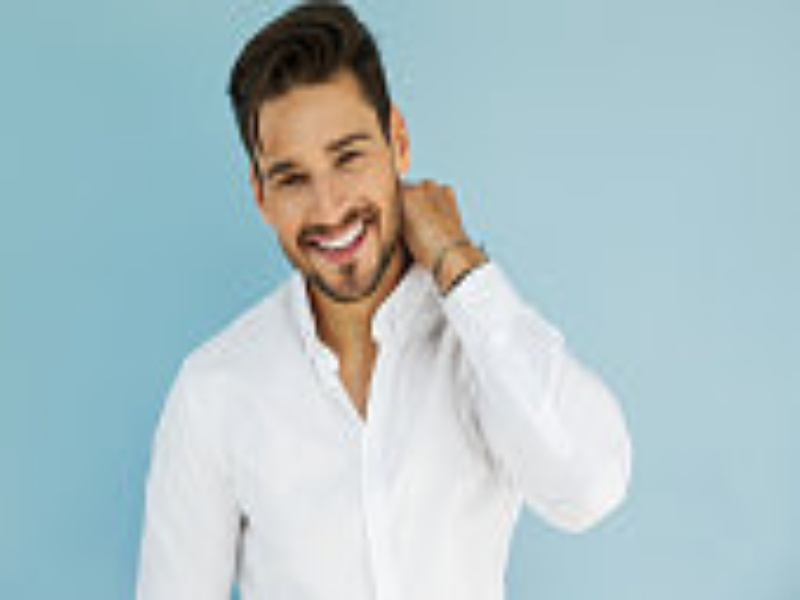person: (23, 34, 334, 563), (348, 94, 679, 573)
